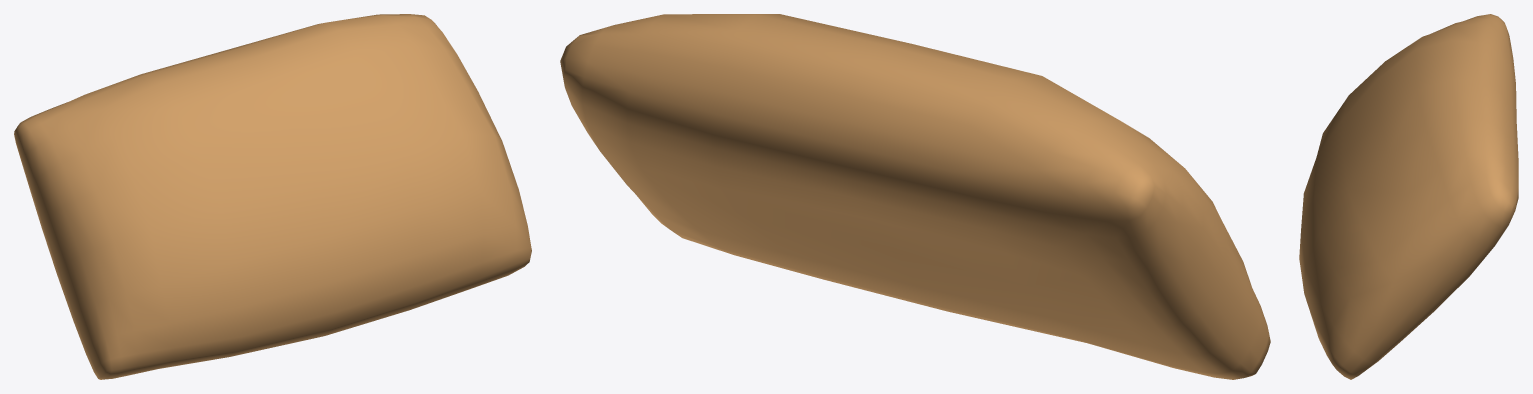
The model's file is Pillow.glb.
The picture shows the model from 3 angles, left to right: view 1: azimuth 30°, elevation 25°; view 2: azimuth 150°, elevation 25°; view 3: azimuth 270°, elevation 25°; orthographic projection. The views are drawn at different scales.
Visible parts, largest first — view 1: Pillow.001; view 2: Pillow.001; view 3: Pillow.001.
Boxes of the visible parts, x1,y1,x2,y2 form: Pillow.001: (14,14,531,379); Pillow.001: (560,14,1270,379); Pillow.001: (1299,14,1518,379).
Bounding box in the file's own units: 0.7694 × 0.3936 × 0.3626.
